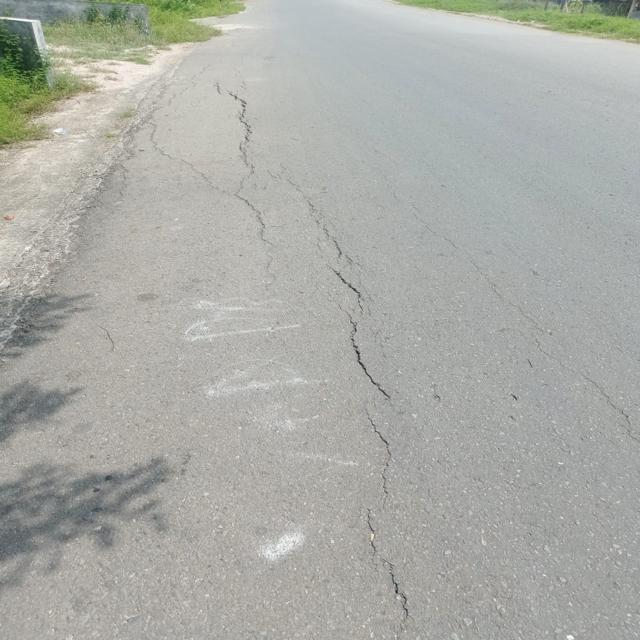Memanjang: (313, 201, 445, 640), (205, 69, 292, 272)
